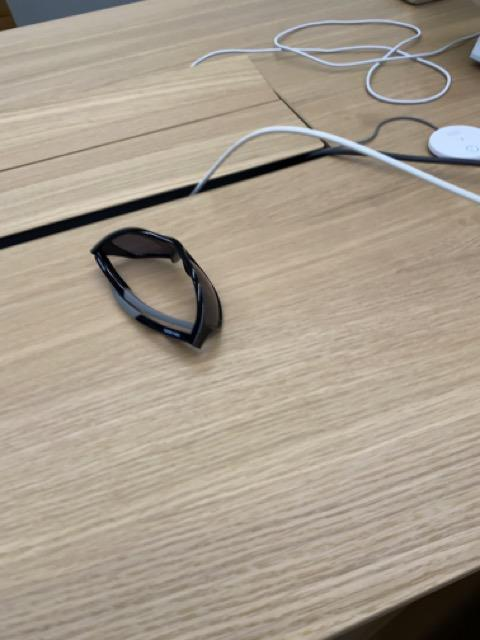Sunglasses: (90, 227, 225, 352)
